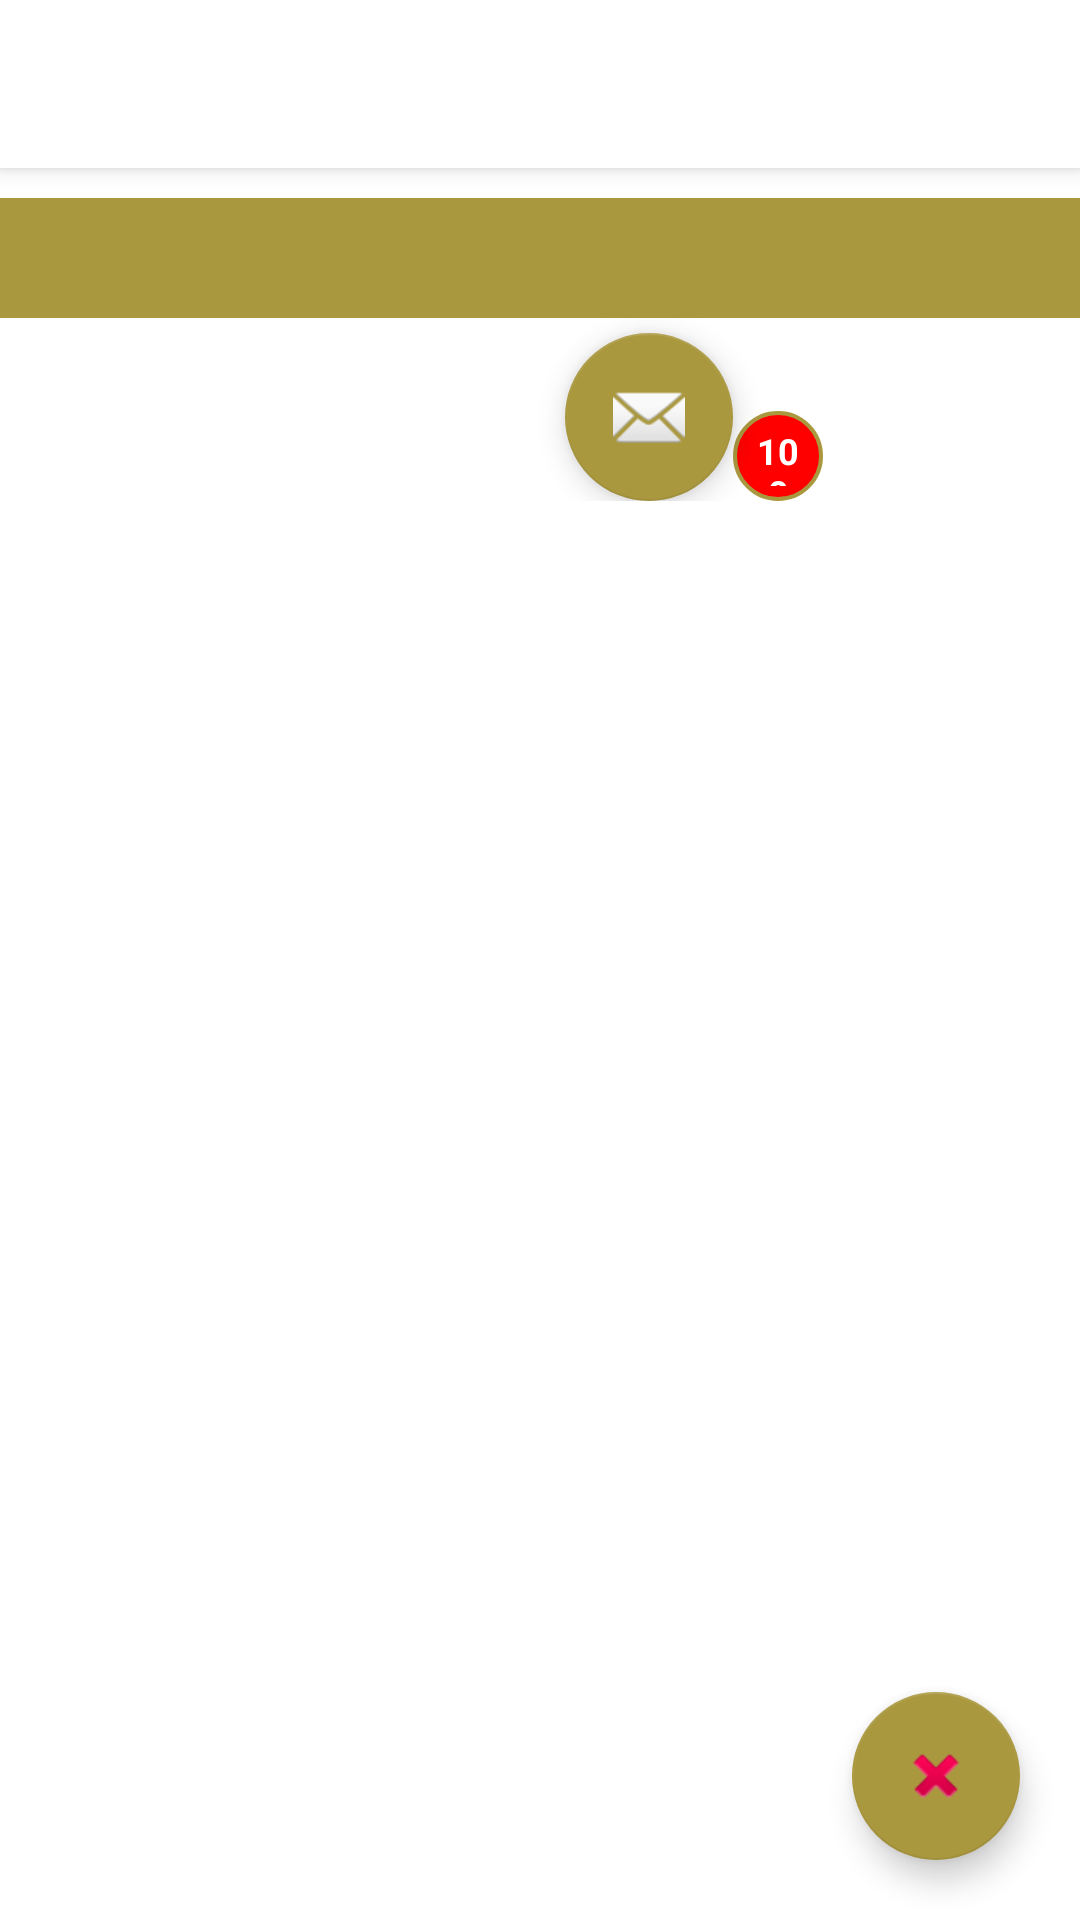

Icon click points for this 1080w x 1920h phone screenshot, format (x,y):
delete: (936,1776)
email: (649,417)
